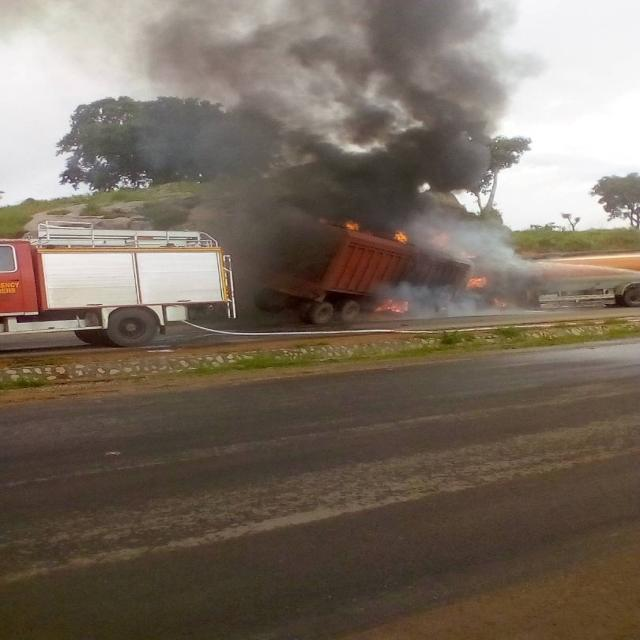Smoke: (189, 7, 472, 186), (424, 226, 511, 307)
